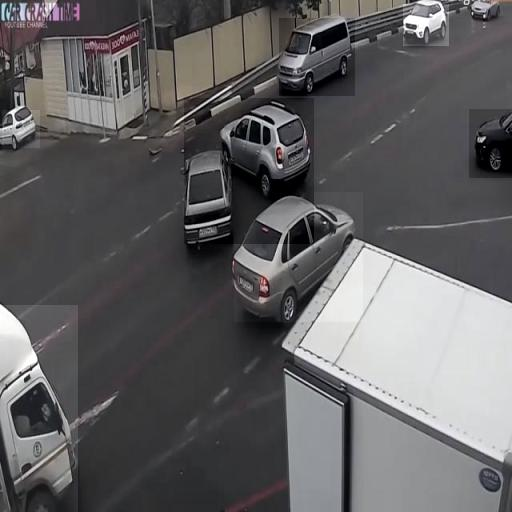小汽车: (234, 192, 363, 322), (0, 305, 78, 512), (280, 18, 356, 96), (469, 109, 512, 178), (403, 4, 449, 46), (2, 110, 40, 148)
小汽车撞小汽车: (184, 98, 314, 244)
